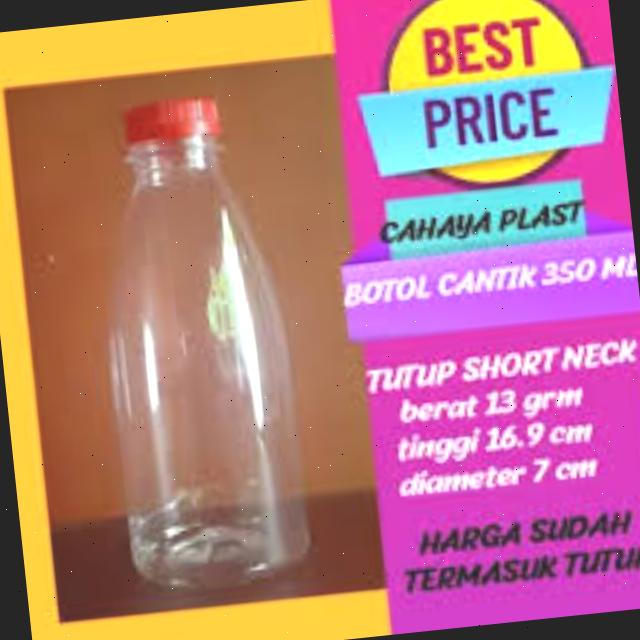trash: (80, 84, 320, 598)
